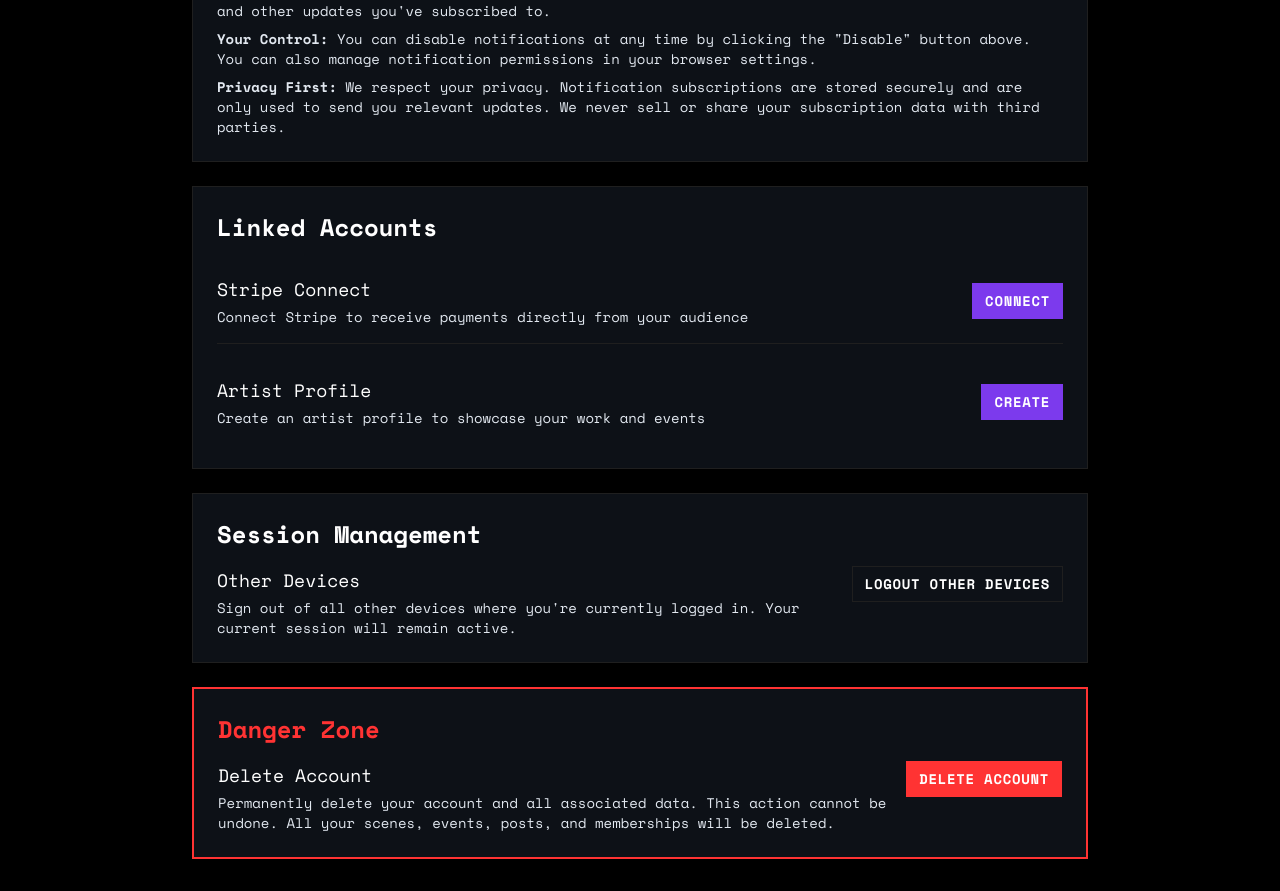
Test: SettingsPage › Danger Zone › should close confirmation modal when cancel is clicked
(page scrolled)
Click the button "Delete Account".
click(984, 779)  # box [906,761,1062,797]
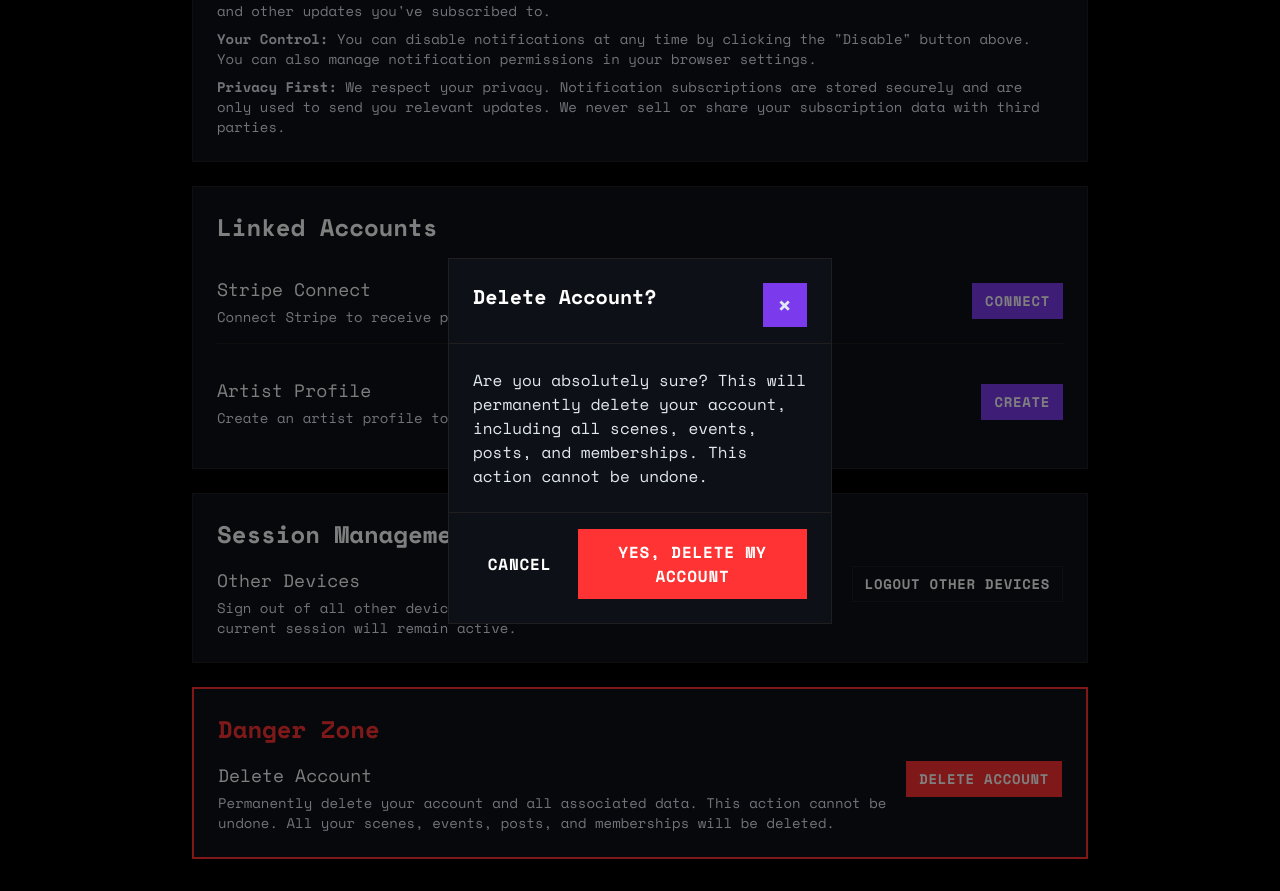
Now the text "Are you absolutely sure" is shown, box [473,368,806,488]
Click the button "Cancel".
click(520, 564)  # box [473,541,566,587]
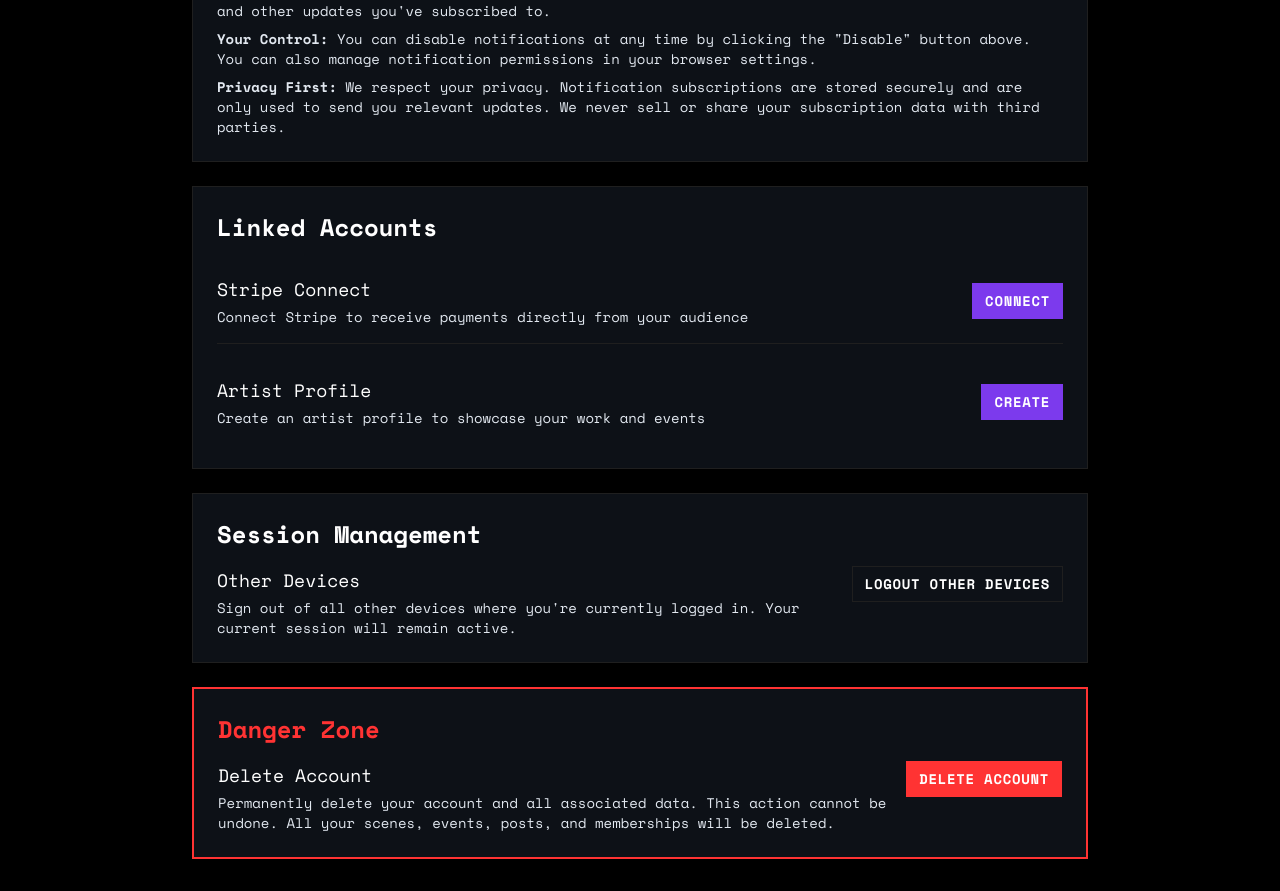
Now the text "Are you absolutely sure" is gone
